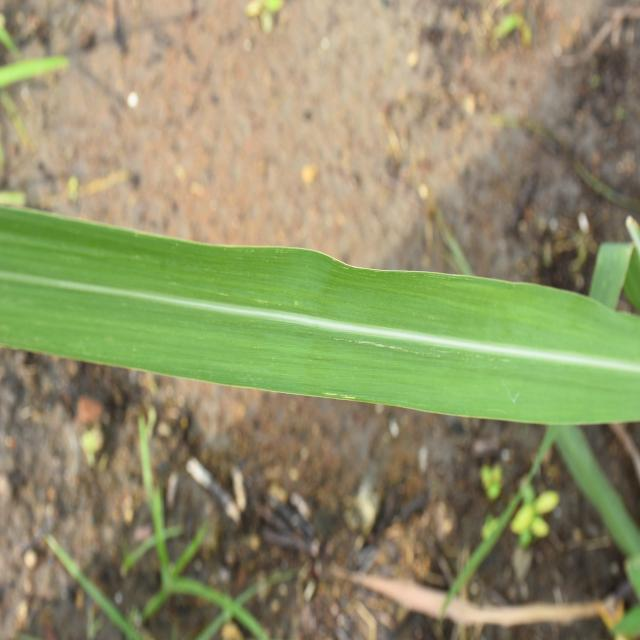Sugarcane: (1, 206, 640, 424)
